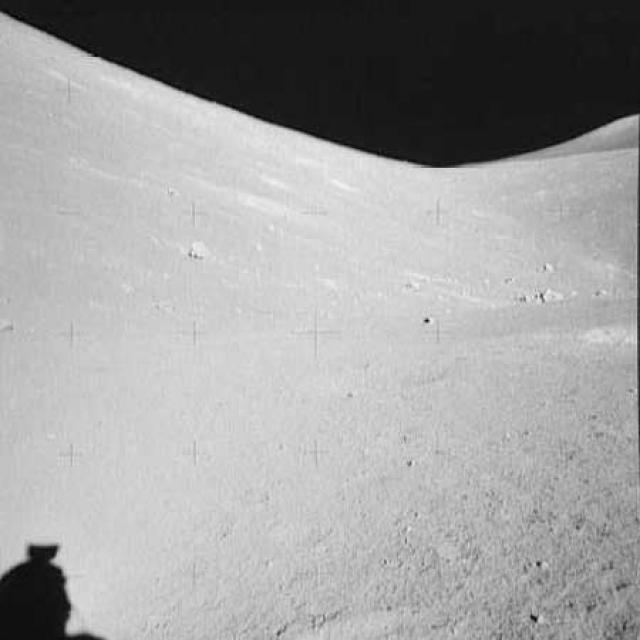rock: (182, 233, 211, 261), (540, 285, 563, 306), (541, 258, 555, 274)
